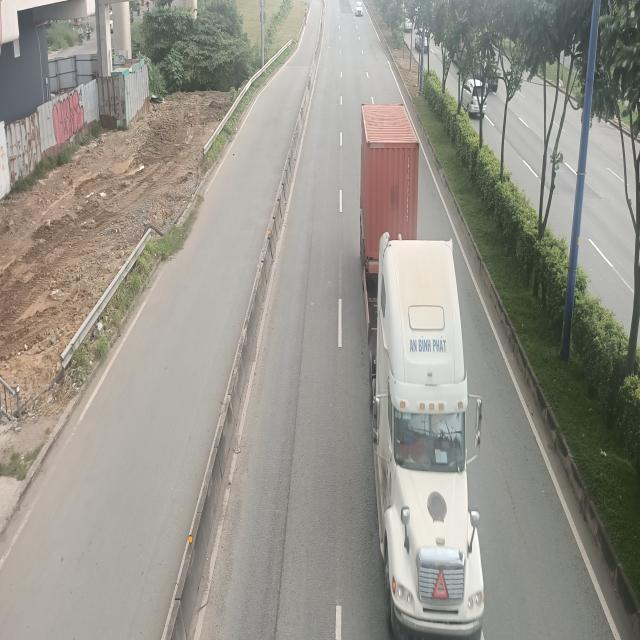container: (362, 91, 483, 640)
